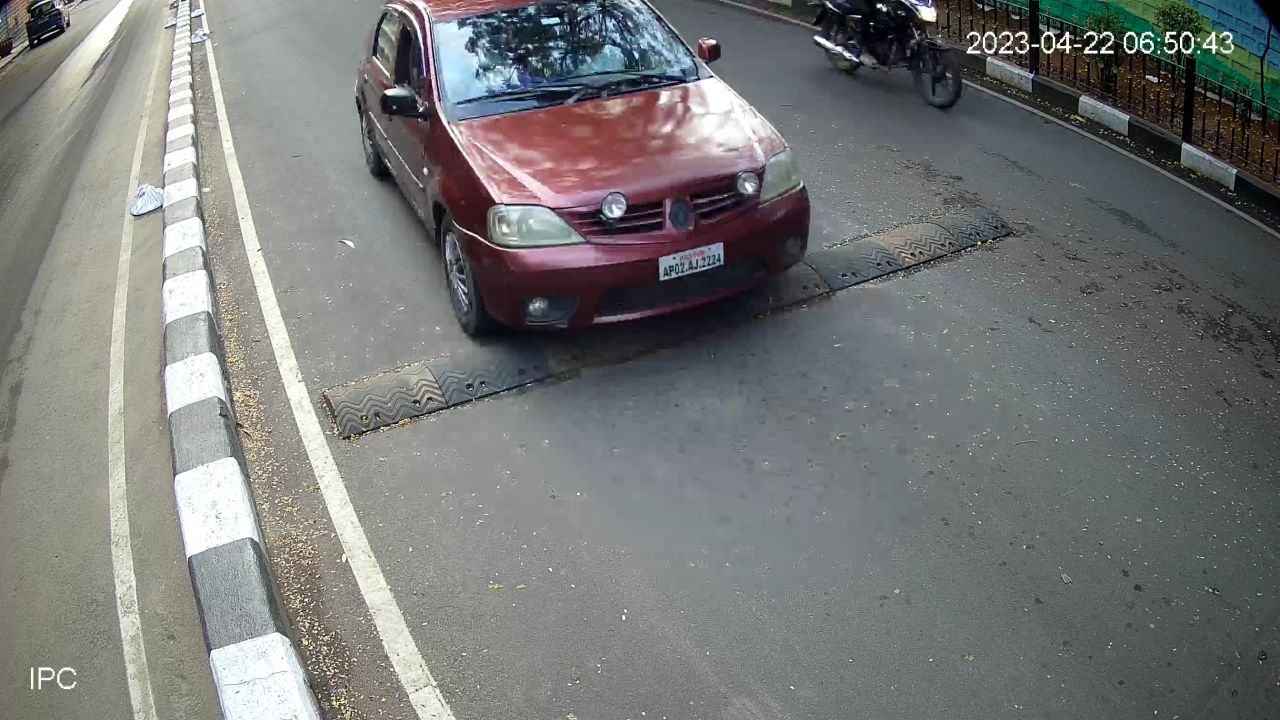license_plate: (655, 237, 730, 286)
